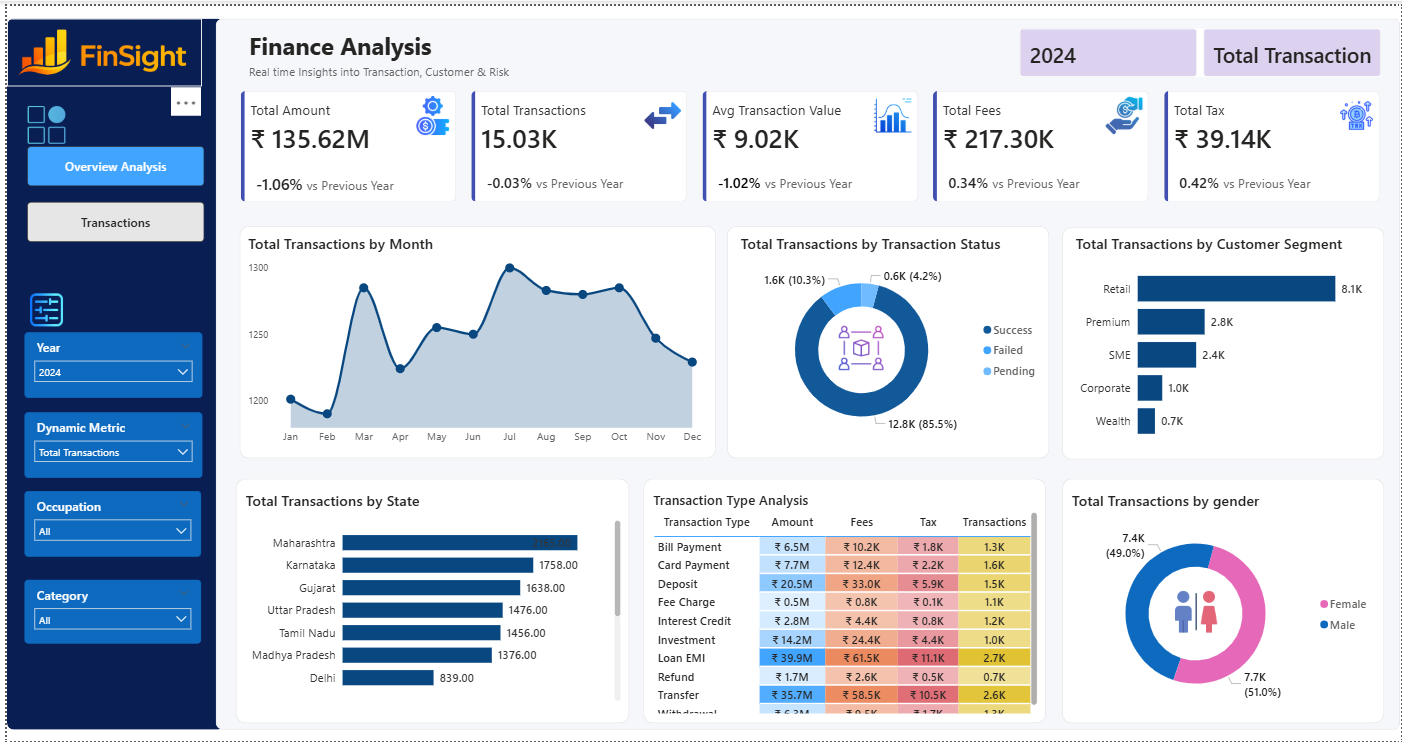

Layout of this report page (visuals, bound fields, positions):
{"tool":"powerbi","page":{"name":"Overview Analysis","canvas":[1800,950],"ordinal":0},"visuals":[{"type":"shape","box":[0,16,280,918],"z":0},{"type":"shape","box":[270,16,1530,918],"z":1000},{"type":"image","box":[0,16,252,88],"z":2000},{"type":"cardVisual","fields":{"Data":["finance_transactions.Dashboard Title"]},"box":[296,16,370,92],"z":3000},{"type":"cardVisual","fields":{"Data":["finance_transactions.Total Amount","finance_transactions.Total Transactions","finance_transactions.Avg Transaction Value","finance_transactions.Total Fees","finance_transactions.Total Tax"]},"box":[296,104,1482,155],"z":4000},{"type":"slicer","fields":{"Values":["calendar table.Year"]},"box":[22,420.5,229.6,84.4],"z":5000},{"type":"image","box":[524,116,50,50],"z":6000},{"type":"image","box":[822,116,50,50],"z":7000},{"type":"image","box":[1416,116,50,50],"z":8000},{"type":"image","box":[1118,116,50,50],"z":9000},{"type":"image","box":[1716,116,50,50],"z":10000},{"type":"slicer","fields":{"Values":["Dynamic Metric.Dynamic Metric"]},"box":[22,525.1,229.6,84.4],"z":11000},{"type":"shape","box":[300,284,615,300],"z":12000},{"type":"areaChart","fields":{"Y":["finance_transactions.Total Transactions"],"Category":["calendar table.Month"]},"box":[306,294,602,282],"z":13000},{"type":"cardVisual","fields":{"Data":["finance_transactions.Selected Year","finance_transactions.Selected Dynamic Measure"]},"box":[1302,24,476,72],"z":14000},{"type":"shape","box":[930,284,416,300],"z":15000},{"type":"donutChart","fields":{"Y":["finance_transactions.Total Transactions"],"Category":["finance_transactions.transaction_status"]},"box":[942,294,400,276],"z":16000},{"type":"shape","box":[1362,286,416,300],"z":17000},{"type":"barChart","fields":{"Y":["finance_transactions.Total Transactions"],"Category":["customers.customer_segment"]},"box":[1374,294,390,282],"z":18000},{"type":"shape","box":[296,610,508,316],"z":19000},{"type":"barChart","fields":{"Y":["finance_transactions.Total Transactions"],"Category":["customers.state"]},"box":[304,626,494,276],"z":20000},{"type":"shape","box":[822,610,520,316],"z":21000},{"type":"tableEx","title":"Transaction Type Analysis ","fields":{"Values":["finance_transactions.transaction_type","finance_transactions.Total Amount","finance_transactions.Total Fees","finance_transactions.Total Tax","finance_transactions.Total Transactions"]},"box":[830,626,506,292],"z":22000},{"type":"shape","box":[1362,610,416,316],"z":23000},{"type":"donutChart","fields":{"Y":["finance_transactions.Total Transactions"],"Category":["customers.gender"]},"box":[1370,626,400,292],"z":24000},{"type":"image","box":[1072,408,62,66],"z":25000},{"type":"image","box":[1504,748,62,66],"z":26000},{"type":"slicer","fields":{"Values":["customers.occupation"]},"box":[22,626.5,228,84.4],"z":27000},{"type":"slicer","fields":{"Values":["finance_transactions.merchant_category"]},"box":[22,741.3,228,82.7],"z":28000},{"type":"pageNavigator","box":[25.3,180.7,229.6,125],"z":29000},{"type":"image","box":[25.3,128.3,50.7,49],"z":30000},{"type":"image","box":[25.3,368.1,50.7,49],"z":31000}]}

Visuals, with their boxes on the page's 1800x950 design canvas (x1, y1, x2, y2). These are canvas units, not pixel positions in the 1402x742 screenshot, which may show the page scaled, cropped or inside an application window:
shape: Rect(0, 16, 280, 934)
shape: Rect(270, 16, 1800, 934)
image: Rect(0, 16, 252, 104)
cardVisual - finance_transactions.Dashboard Title: Rect(296, 16, 666, 108)
cardVisual - finance_transactions.Total Amount x finance_transactions.Total Transactions: Rect(296, 104, 1778, 259)
slicer - calendar table.Year: Rect(22, 420, 252, 505)
image: Rect(524, 116, 574, 166)
image: Rect(822, 116, 872, 166)
image: Rect(1416, 116, 1466, 166)
image: Rect(1118, 116, 1168, 166)
image: Rect(1716, 116, 1766, 166)
slicer - Dynamic Metric.Dynamic Metric: Rect(22, 525, 252, 610)
shape: Rect(300, 284, 915, 584)
areaChart - finance_transactions.Total Transactions x calendar table.Month: Rect(306, 294, 908, 576)
cardVisual - finance_transactions.Selected Year x finance_transactions.Selected Dynamic Measure: Rect(1302, 24, 1778, 96)
shape: Rect(930, 284, 1346, 584)
donutChart - finance_transactions.Total Transactions x finance_transactions.transaction_status: Rect(942, 294, 1342, 570)
shape: Rect(1362, 286, 1778, 586)
barChart - finance_transactions.Total Transactions x customers.customer_segment: Rect(1374, 294, 1764, 576)
shape: Rect(296, 610, 804, 926)
barChart - finance_transactions.Total Transactions x customers.state: Rect(304, 626, 798, 902)
shape: Rect(822, 610, 1342, 926)
"Transaction Type Analysis " tableEx: Rect(830, 626, 1336, 918)
shape: Rect(1362, 610, 1778, 926)
donutChart - finance_transactions.Total Transactions x customers.gender: Rect(1370, 626, 1770, 918)
image: Rect(1072, 408, 1134, 474)
image: Rect(1504, 748, 1566, 814)
slicer - customers.occupation: Rect(22, 626, 250, 711)
slicer - finance_transactions.merchant_category: Rect(22, 741, 250, 824)
pageNavigator: Rect(25, 181, 255, 306)
image: Rect(25, 128, 76, 177)
image: Rect(25, 368, 76, 417)
